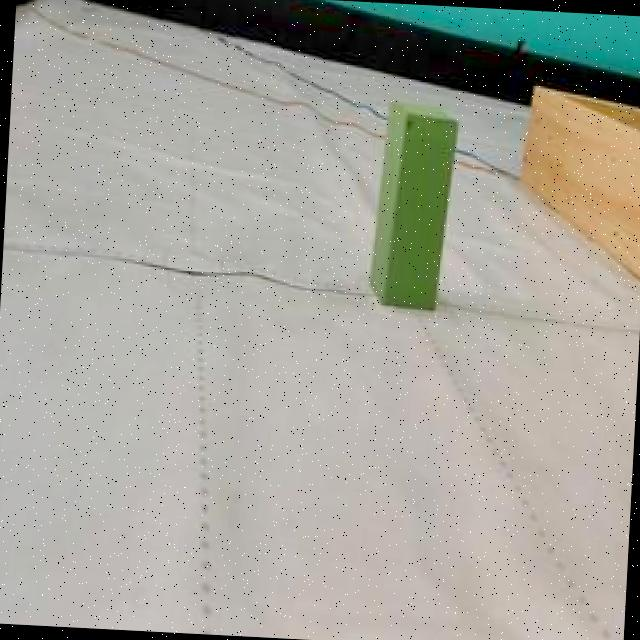greenbox: (366, 96, 463, 312)
